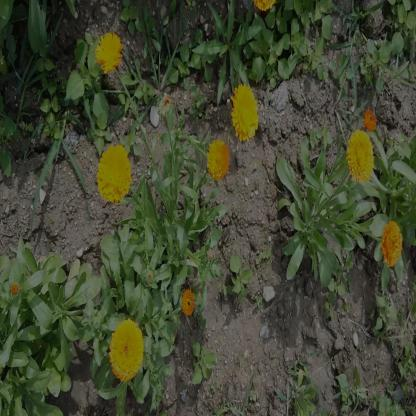marigold: (95, 145, 132, 206), (108, 320, 143, 378), (229, 83, 259, 138), (346, 131, 374, 183), (92, 31, 122, 72), (207, 138, 230, 180), (382, 222, 402, 264)
